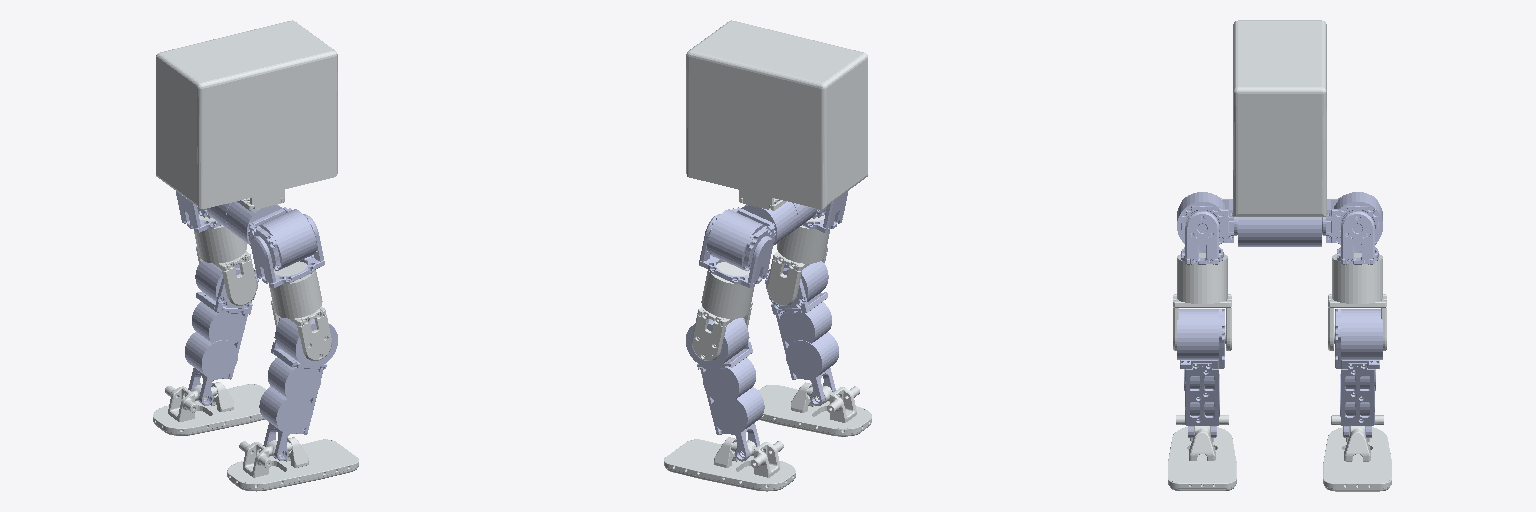
robot.urdf — minipi_12dof_250110:
<?xml version="1.0" encoding="utf-8"?>
<!-- This URDF was automatically created by SolidWorks to URDF Exporter! Originally created by [author] ([email redacted]) 
     Commit Version: 1.6.0-4-g7f85cfe  Build Version: 1.6.7995.38578
     For more information, please see http://wiki.ros.org/sw_urdf_exporter -->
<robot name="minipi_12dof_250110">
  <mujoco>
		<compiler meshdir="../meshes/" balanceinertia="true" discardvisual="false" />
	</mujoco>
  <link name="base_link">
    <inertial>
      <origin xyz="0.00110346 0 0.07998382" rpy="0 0 0" />
      <mass value="2.4649" />
      <inertia ixx="0.0025527" ixy="0" ixz="-3.35E-06" iyy="0.00400225" iyz="0" izz="0.00286096" />
    </inertial>
    <visual>
      <origin xyz="0 0 0" rpy="0 0 0" />
      <geometry>
        <mesh filename="../meshes/base_link.STL" />
      </geometry>`
      <material name="">
        <color rgba="0.89804 0.91765 0.92941 1" />
      </material>
    </visual>
    <collision>
      <origin xyz="0 0 0" rpy="0 0 0" />
      <geometry>
        <!-- <box size="0.1 0.1 0.1" /> -->
        <mesh filename="../meshes/base_link.STL" />
      </geometry>
    </collision>
  </link>
  <link name="l_hip_pitch_link">
    <inertial>
      <origin xyz="-0.00074639 -0.01340396 0" rpy="0 0 0" />
      <mass value="0.26840225" />
      <inertia ixx="0.00017926" ixy="9.95E-06" ixz="0" iyy="0.00010406" iyz="0" izz="0.000193" />
    </inertial>
    <visual>
      <origin xyz="0 0 0" rpy="0 0 0" />
      <geometry>
        <mesh filename="../meshes/l_hip_pitch_link.STL" />
      </geometry>
      <material name="">
        <color rgba="0.79216 0.81961 0.93333 1" />
      </material>
    </visual>
    <collision>
      <origin xyz="0 0 0" rpy="0 0 0" />
      <geometry>
        <box size="0.001 0.001 0.001" />
        <!-- <mesh filename="../meshes/l_hip_pitch_link.STL" /> -->
      </geometry>
    </collision>
  </link>
  <joint name="l_hip_pitch_joint" type="revolute">
    <origin xyz="0.00214758322456313 0.0436999999999998 -0.0322500000000001" rpy="0 -0.2 0" />
    <parent link="base_link" />
    <child link="l_hip_pitch_link" />
    <axis xyz="0 1 0" />
    <limit lower="-1" upper="0.6" effort="21" velocity="21" />
  </joint>
  <link name="l_hip_roll_link">
    <inertial>
      <origin xyz="-0.023963 0 -0.0030691" rpy="0 0 0" />
      <mass value="0.27495" />
      <inertia ixx="0.00010816" ixy="0" ixz="-4.28E-06" iyy="0.0001412" iyz="0" izz="0.00012127" />
    </inertial>
    <visual>
      <origin xyz="0 0 0" rpy="0 0 0" />
      <geometry>
        <mesh filename="../meshes/l_hip_roll_link.STL" />
      </geometry>
      <material name="">
        <color rgba="0.79216 0.81961 0.93333 1" />
      </material>
    </visual>
    <collision>
      <origin xyz="0 0 0" rpy="0 0 0" />
      <geometry>
        <box size="0.001 0.001 0.001" />
        <!-- <mesh filename="../meshes/l_hip_roll_link.STL" /> -->
      </geometry>
    </collision>
  </link>
  <joint name="l_hip_roll_joint" type="revolute">
    <origin xyz="0.0235 0.0362999999999998 0" rpy="0 0 0" />
    <parent link="l_hip_pitch_link" />
    <child link="l_hip_roll_link" />
    <axis xyz="1 0 0" />
    <limit lower="-0.4" upper="0.4" effort="21" velocity="21" />
  </joint>
  <link name="l_thigh_link">
    <inertial>
      <origin xyz="0 -0.00069547 0.01118105" rpy="0 0 0" />
      <mass value="0.29535" />
      <inertia ixx="0.00023194" ixy="0" ixz="0" iyy="0.0001971" iyz="-1.024E-05" izz="0.000126" />
    </inertial>
    <visual>
      <origin xyz="0 0 0" rpy="0 0 0" />
      <geometry>
        <mesh filename="../meshes/l_thigh_link.STL" />
      </geometry>
      <material name="">
        <color rgba="0.89804 0.91765 0.92941 1" />
      </material>
    </visual>
    <collision>
      <origin xyz="0 0 0" rpy="0 0 0" />
      <geometry>
        <box size="0.001 0.001 0.001" />
        <!-- <mesh filename="../meshes/l_thigh_link.STL" /> -->
      </geometry>
    </collision>
  </link>
  <joint name="l_thigh_joint" type="revolute">
    <origin xyz="-0.0235 0 -0.0817" rpy="0 0 0" />
    <parent link="l_hip_roll_link" />
    <child link="l_thigh_link" />
    <axis xyz="0 0 1" />
    <limit lower="-0.5" upper="0.5" effort="21" velocity="21" />
  </joint>
  <link name="l_calf_link">
    <inertial>
      <origin xyz="0.00071444 -0.0249664 -0.0409766" rpy="0 0 0" />
      <mass value="0.59064065" />
      <inertia ixx="0.00010258" ixy="6.7E-07" ixz="1.148E-05" iyy="0.00096369" iyz="-4.053E-05" izz="0.00017091" />
    </inertial>
    <visual>
      <origin xyz="0 0 0" rpy="0 0 0" />
      <geometry>
        <mesh filename="../meshes/l_calf_link.STL" />
      </geometry>
      <material name="">
        <color rgba="0.79216 0.81961 0.93333 1" />
      </material>
    </visual>
    <collision>
      <origin xyz="0 0 0" rpy="0 0 0" />
      <geometry>
        <box size="0.001 0.001 0.001" />
        <!-- <mesh filename="../meshes/l_calf_link.STL" /> -->
      </geometry>
    </collision>
  </link>
  <joint name="l_calf_joint" type="revolute">
    <origin xyz="0 0.0264999999999997 -0.0382999999999999" rpy="0 0.47 0" />
    <parent link="l_thigh_link" />
    <child link="l_calf_link" />
    <axis xyz="0 1 0" />
    <limit lower="-0.4" upper="1.5" effort="21" velocity="21" />
  </joint>
  <link name="l_ankle_pitch_link">
    <inertial>
      <origin xyz="0.0013128 0.0084996 -0.004145" rpy="0 0 0" />
      <mass value="0.0089231" />
      <inertia ixx="2.3E-07" ixy="0" ixz="0" iyy="1.02E-06" iyz="0" izz="9.9E-07" />
    </inertial>
    <visual>
      <origin xyz="0 0 0" rpy="0 0 0" />
      <geometry>
        <mesh filename="../meshes/l_ankle_pitch_link.STL" />
      </geometry>
      <material name="">
        <color rgba="0.89804 0.91765 0.92941 1" />
      </material>
    </visual>
    <collision>
      <origin xyz="0 0 0" rpy="0 0 0" />
      <geometry>
        <box size="0.001 0.001 0.001" />
        <!-- <mesh filename="../meshes/l_ankle_pitch_link.STL" /> -->
      </geometry>
    </collision>
  </link>
  <joint name="l_ankle_pitch_joint" type="revolute">
    <origin xyz="-0.00141263490616071 -0.0349999999999977 -0.12585501881826" rpy="0 -0.27 0" />
    <parent link="l_calf_link" />
    <child link="l_ankle_pitch_link" />
    <axis xyz="0 1 0" />
    <limit lower="-0.55" upper="1" effort="21" velocity="21" />
  </joint>
  <link name="l_ankle_roll_link">
    <inertial>
      <origin xyz="0.00265884 -3.23E-06 -0.0221598" rpy="0 0 0" />
      <mass value="0.25771965" />
      <inertia ixx="9.881E-05" ixy="-1E-08" ixz="1.586E-05" iyy="0.00038614" iyz="0" izz="0.00045625" />
    </inertial>
    <visual>
      <origin xyz="0 0 0" rpy="0 0 0" />
      <geometry>
        <mesh filename="../meshes/l_ankle_roll_link.STL" />
      </geometry>
      <material name="">
        <color rgba="0.89804 0.91765 0.92941 1" />
      </material>
    </visual>
    <collision>
      <origin xyz="0 0 0" rpy="0 0 0" />
      <geometry>
        <mesh filename="../meshes/l_ankle_roll_link.STL" />
      </geometry>
    </collision>
  </link>
  <joint name="l_ankle_roll_joint" type="revolute">
    <origin xyz="0.0164376349061596 0.00850000000000066 -0.00414498118183187" rpy="0 0 0" />
    <parent link="l_ankle_pitch_link" />
    <child link="l_ankle_roll_link" />
    <axis xyz="1 0 0" />
    <limit lower="-1" upper="1" effort="21" velocity="21" />
  </joint>
  <link name="r_hip_pitch_link">
    <inertial>
      <origin xyz="-0.00074639 0.006036 -1.3436E-10" rpy="0 0 0" />
      <mass value="0.26840225" />
      <inertia ixx="0.00017926" ixy="-9.95E-06" ixz="0" iyy="0.00010406" iyz="0" izz="0.000193" />
    </inertial>
    <visual>
      <origin xyz="0 0 0" rpy="0 0 0" />
      <geometry>
        <mesh filename="../meshes/r_hip_pitch_link.STL" />
      </geometry>
      <material name="">
        <color rgba="0.79216 0.81961 0.93333 1" />
      </material>
    </visual>
    <collision>
      <origin xyz="0 0 0" rpy="0 0 0" />
      <geometry>
        <box size="0.001 0.001 0.001" />
        <!-- <mesh filename="../meshes/r_hip_pitch_link.STL" /> -->
      </geometry>
    </collision>
  </link>
  <joint name="r_hip_pitch_joint" type="revolute">
    <origin xyz="0.00214758322456313 -0.0437000000000002 -0.0322500000000001" rpy="0 -0.2 0" />
    <parent link="base_link" />
    <child link="r_hip_pitch_link" />
    <axis xyz="0 1 0" />
    <limit lower="-1" upper="0.6" effort="21" velocity="21" />
  </joint>
  <link name="r_hip_roll_link">
    <inertial>
      <origin xyz="-0.023963 0 -0.0030691" rpy="0 0 0" />
      <mass value="0.27495" />
      <inertia ixx="0.00010816" ixy="0" ixz="-4.28E-06" iyy="0.0001412" iyz="0" izz="0.00012127" />
    </inertial>
    <visual>
      <origin xyz="0 0 0" rpy="0 0 0" />
      <geometry>
        <mesh filename="../meshes/r_hip_roll_link.STL" />
      </geometry>
      <material name="">
        <color rgba="0.79216 0.81961 0.93333 1" />
      </material>
    </visual>
    <collision>
      <origin xyz="0 0 0" rpy="0 0 0" />
      <geometry>
        <box size="0.001 0.001 0.001" />
        <!-- <mesh filename="../meshes/r_hip_roll_link.STL" /> -->
      </geometry>
    </collision>
  </link>
  <joint name="r_hip_roll_joint" type="revolute">
    <origin xyz="0.0235 -0.0363 0" rpy="0 0 0" />
    <parent link="r_hip_pitch_link" />
    <child link="r_hip_roll_link" />
    <axis xyz="1 0 0" />
    <limit lower="-0.4" upper="0.4" effort="21" velocity="21" />
  </joint>
  <link name="r_thigh_link">
    <inertial>
      <origin xyz="0 0.00071139 0.011181" rpy="0 0 0" />
      <mass value="0.29535" />
      <inertia ixx="0.00023193" ixy="0" ixz="0" iyy="0.0001971" iyz="1.032E-05" izz="0.000126" />
    </inertial>
    <visual>
      <origin xyz="0 0 0" rpy="0 0 0" />
      <geometry>
        <mesh filename="../meshes/r_thigh_link.STL" />
      </geometry>
      <material name="">
        <color rgba="0.89804 0.91765 0.92941 1" />
      </material>
    </visual>
    <collision>
      <origin xyz="0 0 0" rpy="0 0 0" />
      <geometry>
        <box size="0.001 0.001 0.001" />
        <!-- <mesh filename="../meshes/r_thigh_link.STL" /> -->
      </geometry>
    </collision>
  </link>
  <joint name="r_thigh_joint" type="revolute">
    <origin xyz="-0.0235 0 -0.0817" rpy="0 0 0" />
    <parent link="r_hip_roll_link" />
    <child link="r_thigh_link" />
    <axis xyz="0 0 1" />
    <limit lower="-0.5" upper="0.5" effort="21" velocity="21" />
  </joint>
  <link name="r_calf_link">
    <inertial>
      <origin xyz="0.00077628 0.024905 -0.040977" rpy="0 0 0" />
      <mass value="0.59064" />
      <inertia ixx="0.00095524" ixy="-7.1E-07" ixz="1.24E-05" iyy="0.00096372" iyz="3.96E-05" izz="0.00017084" />
    </inertial>
    <visual>
      <origin xyz="0 0 0" rpy="0 0 0" />
      <geometry>
        <mesh filename="../meshes/r_calf_link.STL" />
      </geometry>
      <material name="">
        <color rgba="0.79216 0.81961 0.93333 1" />
      </material>
    </visual>
    <collision>
      <origin xyz="0 0 0" rpy="0 0 0" />
      <geometry>
        <box size="0.001 0.001 0.001" />
        <!-- <mesh filename="../meshes/r_calf_link.STL" /> -->
      </geometry>
    </collision>
  </link>
  <joint name="r_calf_joint" type="revolute">
    <origin xyz="0 -0.0265 -0.0383" rpy="0 0.47 0" />
    <parent link="r_thigh_link" />
    <child link="r_calf_link" />
    <axis xyz="0 1 0" />
    <limit lower="-0.4" upper="1.5" effort="21" velocity="21" />
  </joint>
  <link name="r_ankle_pitch_link">
    <inertial>
      <origin xyz="0 -0.0085004 0" rpy="0 0 0" />
      <mass value="0.0089231" />
      <inertia ixx="2.3E-07" ixy="0" ixz="0" iyy="1.02E-06" iyz="0" izz="9.9E-07" />
    </inertial>
    <visual>
      <origin xyz="0 0 0" rpy="0 0 0" />
      <geometry>
        <mesh filename="../meshes/r_ankle_pitch_link.STL" />
      </geometry>
      <material name="">
        <color rgba="0.89804 0.91765 0.92941 1" />
      </material>
    </visual>
    <collision>
      <origin xyz="0 0 0" rpy="0 0 0" />
      <geometry>
        <box size="0.001 0.001 0.001" />
        <!-- <mesh filename="../meshes/r_ankle_pitch_link.STL" /> -->
      </geometry>
    </collision>
  </link>
  <joint name="r_ankle_pitch_joint" type="revolute">
    <origin xyz="0 0.0349 -0.130000000000069" rpy="0 -0.27 0" />
    <parent link="r_calf_link" />
    <child link="r_ankle_pitch_link" />
    <axis xyz="0 1 0" />
    <limit lower="-0.55" upper="1" effort="21" velocity="21" />
  </joint>
  <link name="r_ankle_roll_link">
    <inertial>
      <origin xyz="0.0026588 -3.23E-06 -0.0098754" rpy="0 0 0" />
      <mass value="0.25772" />
      <inertia ixx="9.881E-05" ixy="-1E-08" ixz="1.586E-05" iyy="0.00038614" iyz="0" izz="0.00045625" />
    </inertial>
    <visual>
      <origin xyz="0 0 0" rpy="0 0 0" />
      <geometry>
        <mesh filename="../meshes/r_ankle_roll_link.STL" />
      </geometry>
      <material name="">
        <color rgba="0.89804 0.91765 0.92941 1" />
      </material>
    </visual>
    <collision>
      <origin xyz="0 0 0" rpy="0 0 0" />
      <geometry>
        <mesh filename="../meshes/r_ankle_roll_link.STL" />
      </geometry>
    </collision>
  </link>
  <joint name="r_ankle_roll_joint" type="revolute">
    <origin xyz="0.0151250000000005 -0.00849999999999948 -0.0122844359977193" rpy="0 0 0" />
    <parent link="r_ankle_pitch_link" />
    <child link="r_ankle_roll_link" />
    <axis xyz="1 0 0" />
    <limit lower="-1" upper="1" effort="21" velocity="21" />
  </joint>
</robot>

--- Render facts (derived) ---
3 views of the same robot in one strip: view 1: azimuth 30°, elevation 25°; view 2: azimuth 150°, elevation 25°; view 3: azimuth 270°, elevation 25° (orthographic).
Robot: minipi_12dof_250110 — 13 links, 12 joints (12 revolute); root link base_link; default pose: all joints at 0.
Links seen in each view (by area): view 1: base_link, r_calf_link, l_calf_link, r_ankle_roll_link, l_ankle_roll_link, r_hip_roll_link, r_thigh_link, l_thigh_link, r_hip_pitch_link, l_hip_roll_link; view 2: base_link, l_calf_link, r_calf_link, l_ankle_roll_link, r_ankle_roll_link, l_hip_roll_link, l_thigh_link, r_thigh_link, l_hip_pitch_link, r_hip_roll_link; view 3: base_link, l_calf_link, r_calf_link, l_ankle_roll_link, r_ankle_roll_link, l_thigh_link, r_thigh_link, r_hip_roll_link, l_hip_roll_link, l_hip_pitch_link, r_hip_pitch_link.
Boxes of the visible links, x1,y1,x2,y2 form: base_link: (156, 20, 337, 210); r_calf_link: (259, 317, 337, 460); l_calf_link: (185, 261, 258, 405); r_ankle_roll_link: (227, 437, 358, 491); l_ankle_roll_link: (153, 382, 265, 435); r_hip_roll_link: (251, 209, 324, 287); r_thigh_link: (269, 261, 331, 360); l_thigh_link: (193, 215, 256, 305); r_hip_pitch_link: (226, 201, 317, 270); l_hip_roll_link: (176, 191, 220, 232); base_link: (686, 20, 867, 210); l_calf_link: (686, 317, 764, 461); r_calf_link: (765, 261, 838, 405); l_ankle_roll_link: (664, 437, 795, 491); r_ankle_roll_link: (758, 382, 871, 436); l_hip_roll_link: (699, 209, 772, 287); l_thigh_link: (692, 262, 754, 360); r_thigh_link: (767, 215, 830, 305); l_hip_pitch_link: (707, 201, 797, 270); r_hip_roll_link: (803, 191, 847, 232); base_link: (1233, 20, 1326, 216); l_calf_link: (1335, 309, 1382, 437); r_calf_link: (1177, 309, 1224, 437); l_ankle_roll_link: (1323, 415, 1391, 491); r_ankle_roll_link: (1168, 415, 1236, 490); l_thigh_link: (1328, 253, 1386, 350); r_thigh_link: (1173, 253, 1231, 350); r_hip_roll_link: (1177, 192, 1225, 264); l_hip_roll_link: (1334, 192, 1382, 264); l_hip_pitch_link: (1280, 195, 1378, 246); r_hip_pitch_link: (1181, 195, 1279, 246).
Bounding box of the posed robot: 0.1719 × 0.2311 × 0.4627 m (x, y, z).
Meshes: 13 distinct files referenced, 13 mesh visuals loaded (13 binary STL).
